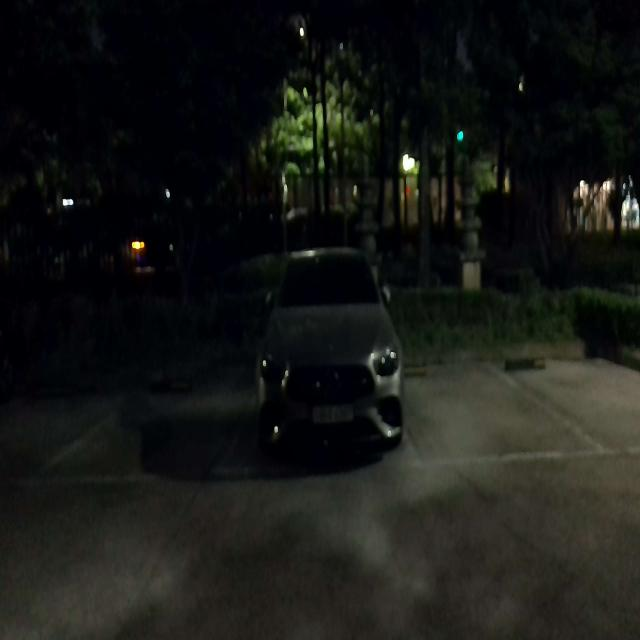empty: (392, 363, 578, 458), (108, 368, 246, 453)
occupied: (256, 244, 410, 433)
